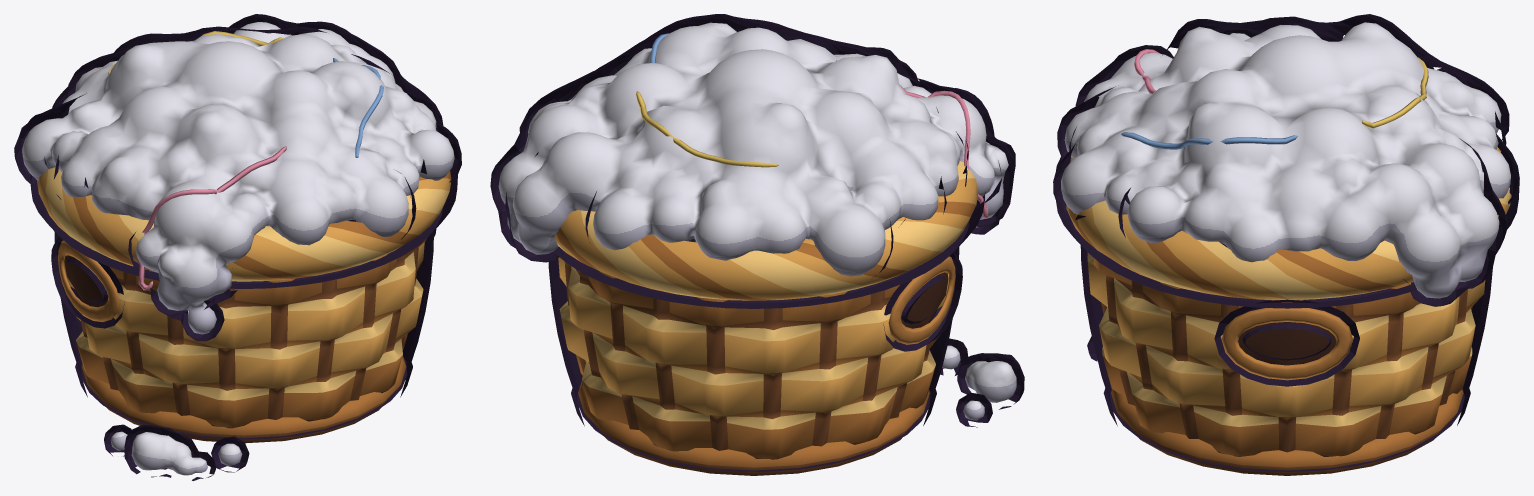
The model's file is Basket.glb.
3 views of the same model, side by side, from view 1: azimuth 30°, elevation 25°; view 2: azimuth 150°, elevation 25°; view 3: azimuth 270°, elevation 25° (orthographic). The views are drawn at different scales.
Parts seen in each view (by area): view 1: Basket, Basket_Outline; view 2: Basket, Basket_Outline; view 3: Basket, Basket_Outline.
Part boxes in pixels (left/top/right/bottom): Basket: left=22, top=22, right=454, bottom=475; Basket_Outline: left=14, top=14, right=461, bottom=480; Basket: left=498, top=22, right=1016, bottom=475; Basket_Outline: left=490, top=14, right=1024, bottom=471; Basket: left=1061, top=22, right=1511, bottom=475; Basket_Outline: left=1053, top=14, right=1519, bottom=471.
Bounding box in the file's own units: 3.51 × 3.11 × 3.52.
1 material, 1 textured.
